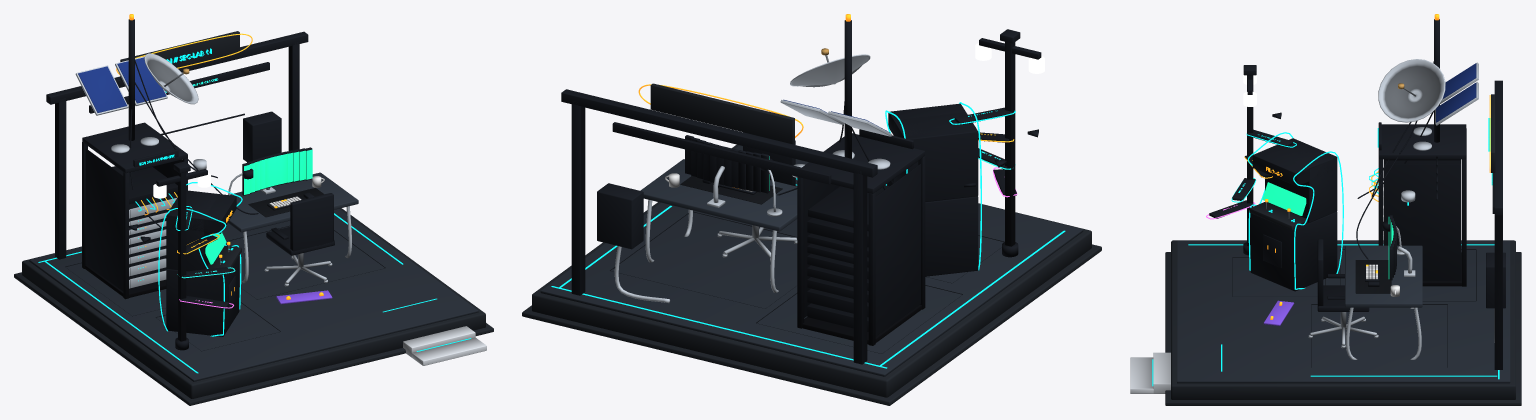
The model's file is diorama.glb.
3 views of the same model, side by side, from view 1: azimuth 30°, elevation 25°; view 2: azimuth 150°, elevation 25°; view 3: azimuth 270°, elevation 25° (orthographic). The views are drawn at different scales.
Parts seen in each view (by area): view 1: floor_surface, base_foundation, rack_enclosure, arcade_body, canopy_truss, chair_seat, desk_top, solar_panel_cells, rack_blade_trim, signpost_pole, stairs_entrance, monitor_screen (+18 smaller); view 2: floor_surface, base_foundation, rack_enclosure, canopy_truss, arcade_body, rack_blades, desk_top, neon_sign_housing, signpost_pole, conduit_transformer_box, monitor_chassis, ticker_bar_housing (+12 smaller); view 3: floor_surface, rack_enclosure, base_foundation, arcade_body, satellite_dish, desk_top, canopy_truss, stairs_entrance, chair_seat, solar_panel_cells, signpost_pole, desk_mat (+16 smaller).
Boxes of the visible parts, box(x1,y1,x2,y2) form: floor_surface: box(29, 208, 478, 381); base_foundation: box(14, 208, 493, 405); rack_enclosure: box(82, 122, 187, 299); arcade_body: box(166, 190, 239, 336); canopy_truss: box(46, 31, 308, 259); chair_seat: box(266, 193, 334, 255); desk_top: box(228, 172, 358, 232); solar_panel_cells: box(78, 57, 166, 112); rack_blade_trim: box(129, 198, 176, 288); signpost_pole: box(156, 161, 207, 350); stairs_entrance: box(403, 326, 486, 365); monitor_screen: box(244, 149, 312, 194); floor_surface: box(540, 145, 1083, 376); base_foundation: box(522, 144, 1101, 405); rack_enclosure: box(797, 133, 925, 345); canopy_truss: box(561, 89, 877, 364); arcade_body: box(887, 103, 978, 276); rack_blades: box(807, 217, 868, 331); desk_top: box(640, 159, 797, 231); neon_sign_housing: box(650, 83, 794, 143); signpost_pole: box(979, 29, 1041, 257); conduit_transformer_box: box(597, 183, 643, 249); monitor_chassis: box(685, 135, 769, 193); ticker_bar_housing: box(612, 122, 831, 184); floor_surface: box(1177, 240, 1510, 383); rack_enclosure: box(1378, 124, 1466, 286); base_foundation: box(1165, 240, 1521, 405); arcade_body: box(1250, 138, 1337, 291); satellite_dish: box(1378, 59, 1445, 122); desk_top: box(1345, 245, 1422, 307); canopy_truss: box(1494, 80, 1502, 369); stairs_entrance: box(1130, 352, 1170, 393); chair_seat: box(1317, 239, 1369, 311); solar_panel_cells: box(1436, 63, 1476, 122); signpost_pole: box(1243, 65, 1256, 255); desk_mat: box(1355, 260, 1391, 293).
Size of the model in its own units: 2.51 by 2.14 by 2.73.
